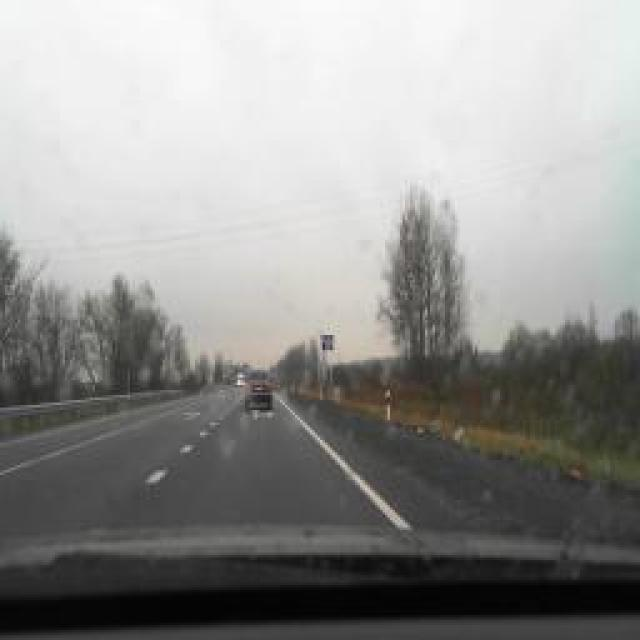sign: (321, 335, 334, 350)
